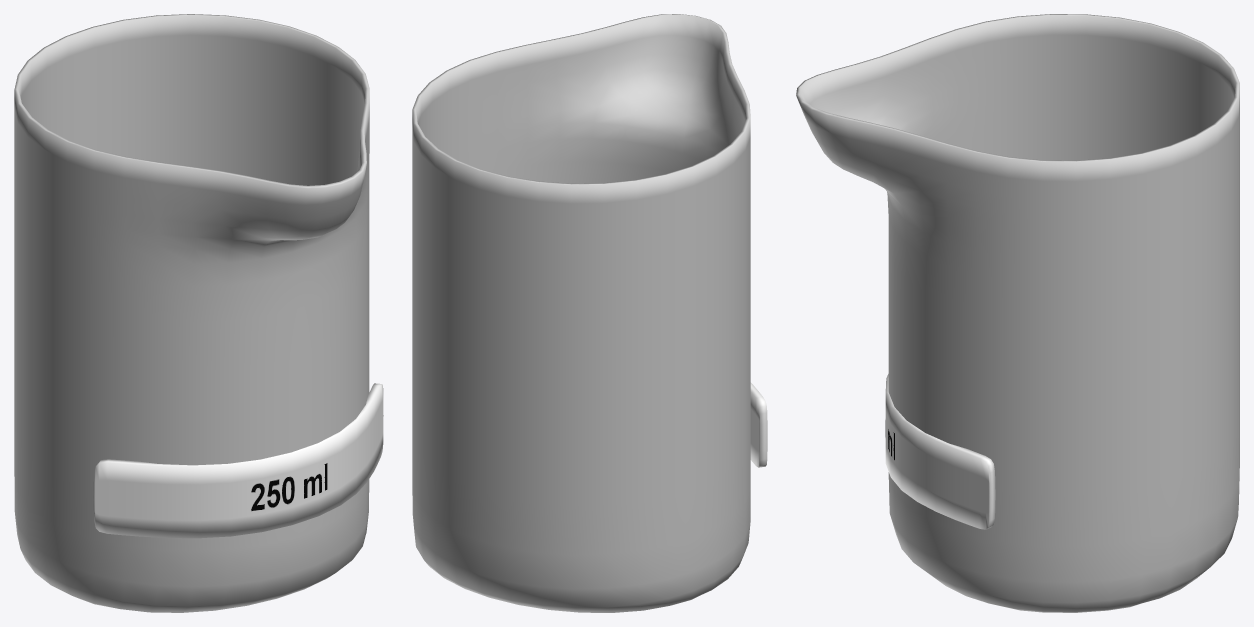
Rendered from Beaker glass 250ml.fbx.
3 renders of one model, left to right at view 1: azimuth 30°, elevation 25°; view 2: azimuth 150°, elevation 25°; view 3: azimuth 270°, elevation 25°, orthographic. The views are drawn at different scales.
Visible parts, largest first — view 1: Cube.051, Cube.100; view 2: Cube.051, Cube.100; view 3: Cube.051, Cube.100.
Boxes of the visible parts, x1,y1,x2,y2 form: Cube.051: [14, 14, 369, 612]; Cube.100: [93, 383, 383, 538]; Cube.051: [412, 14, 750, 612]; Cube.100: [750, 382, 767, 467]; Cube.051: [796, 14, 1239, 612]; Cube.100: [885, 374, 995, 529].
Bounding box in the file's own units: 8.64 × 12.54 × 10.88.
2 materials, 1 textured.
